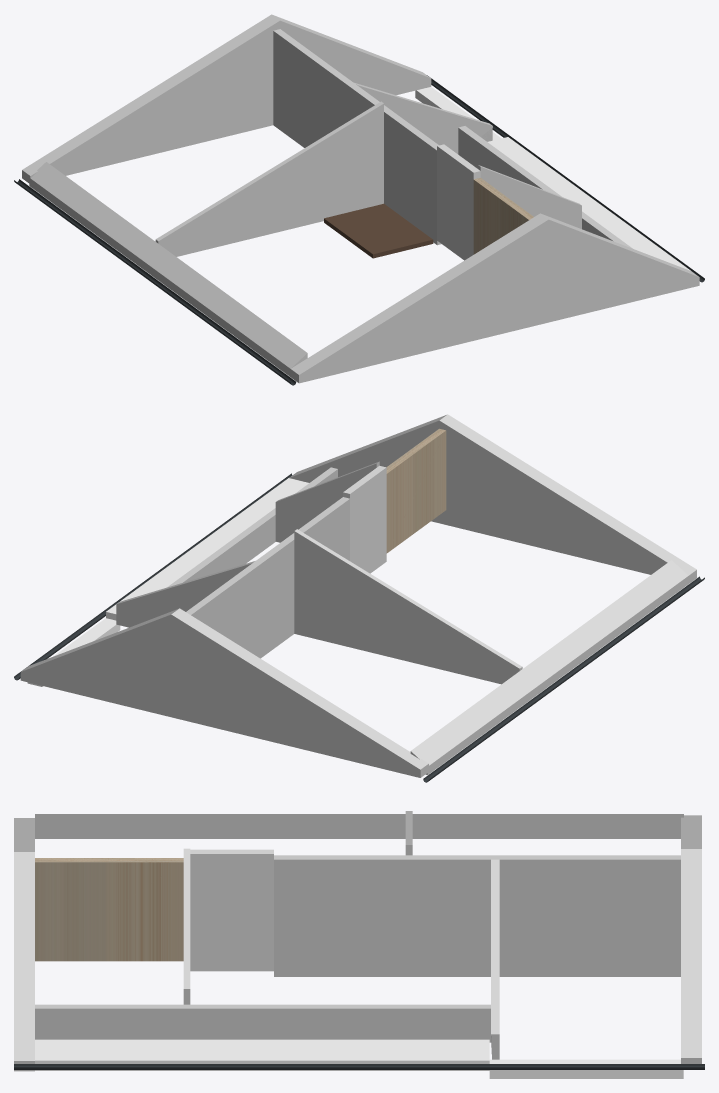
Rendered from Dach_Innen.001.gltf.
The picture shows the model from 3 angles, top to bottom: view 1: azimuth 30°, elevation 25°; view 2: azimuth 150°, elevation 25°; view 3: azimuth 270°, elevation 25°; orthographic projection. The views are drawn at different scales.
Visible parts, largest first — view 1: Dach.001, Cube.275, Cube.274, _Curve.014, Cube.271, _Curve.015, Cube.273, Curve.067, Dach.005, Curve.071, Cube.270, Dach.002 (+3 smaller); view 2: Cube.275, Dach.001, Cube.274, Cube.271, _Curve.014, Curve.071, _Curve.015, Cube.273, Dach.005, Cube.270, Dach.002, Dachrinne.003 (+2 smaller); view 3: _Curve.014, Cube.270, Cube.271, Curve.071, Cube.273, _Curve.015, Cube.275, Dach.001, Dachrinne.002, Cube.272, Dach.005, Dach.002.
Boxes of the visible parts, x1,y1,x2,y2 form: Dach.001: (290, 213, 699, 383); Cube.275: (22, 14, 431, 183); Cube.274: (155, 101, 383, 256); _Curve.014: (273, 29, 441, 245); Cube.271: (29, 162, 307, 376); _Curve.015: (437, 144, 480, 260); Cube.273: (488, 137, 690, 270); Curve.067: (324, 203, 433, 258); Dach.005: (354, 82, 492, 154); Curve.071: (473, 178, 533, 254); Cube.270: (458, 126, 632, 248); Dach.002: (478, 165, 581, 228); Cube.275: (20, 608, 428, 777); Dach.001: (289, 414, 696, 583); Cube.274: (294, 529, 522, 684); Cube.271: (410, 560, 688, 774); _Curve.014: (186, 497, 349, 658); Curve.071: (386, 428, 446, 553); _Curve.015: (343, 465, 386, 573); Cube.273: (106, 478, 308, 620); Dach.005: (116, 561, 254, 627); Cube.270: (167, 467, 337, 587); Dach.002: (275, 461, 379, 542); Dachrinne.003: (423, 576, 704, 782); _Curve.014: (274, 855, 680, 976); Cube.270: (35, 1004, 491, 1042); Cube.271: (35, 814, 683, 838); Curve.071: (35, 858, 183, 961); Cube.273: (34, 1039, 489, 1070); _Curve.015: (190, 849, 273, 971); Cube.275: (681, 815, 701, 1063); Dach.001: (14, 818, 34, 1071); Dachrinne.002: (14, 1064, 704, 1069); Cube.272: (489, 1059, 683, 1078); Dach.005: (491, 859, 499, 1059); Dach.002: (183, 848, 190, 1004).
Size of the model in its own units: 10.3 by 2.66 by 12.
6 materials, 1 textured.
